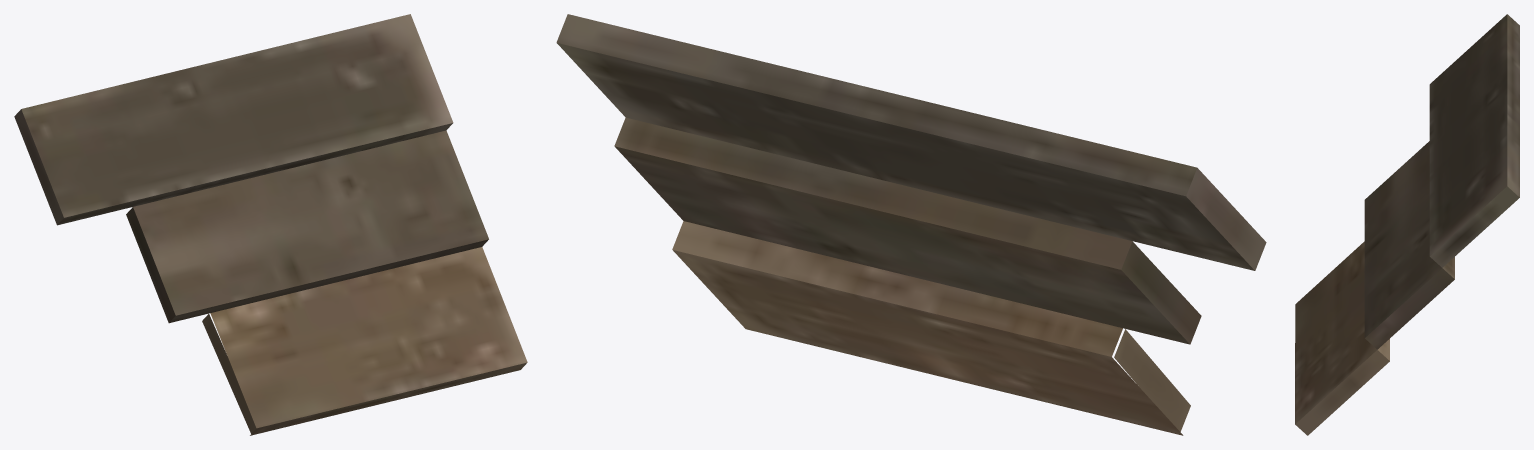
File: roof.frontier.top.line.end.left.glb
3 views of the same model, side by side, from view 1: azimuth 30°, elevation 25°; view 2: azimuth 150°, elevation 25°; view 3: azimuth 270°, elevation 25° (orthographic). The views are drawn at different scales.
Visible parts, largest first — view 1: model; view 2: model; view 3: model.
Boxes of the visible parts, left/top/right/bottom form: model: left=14, top=14, right=527, bottom=435; model: left=556, top=14, right=1266, bottom=435; model: left=1295, top=14, right=1519, bottom=435.
Bounding box in the file's own units: 0.7962 × 0.5383 × 0.4393.
1 material, 1 textured.
